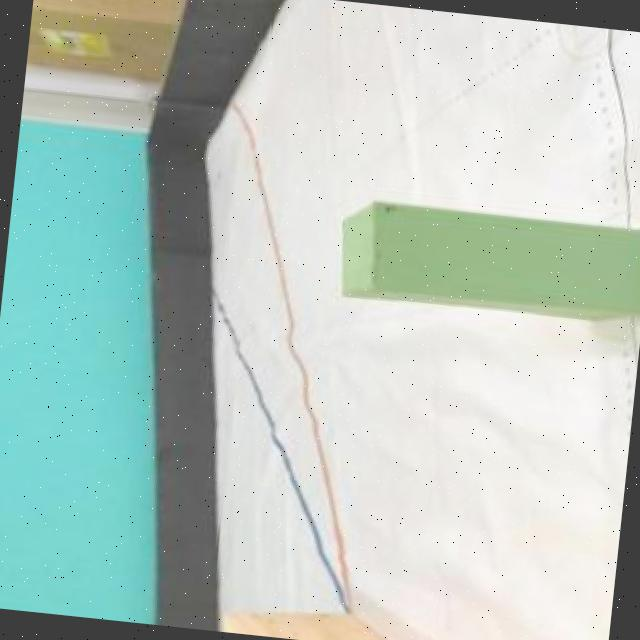greenbox: (331, 195, 640, 324)
